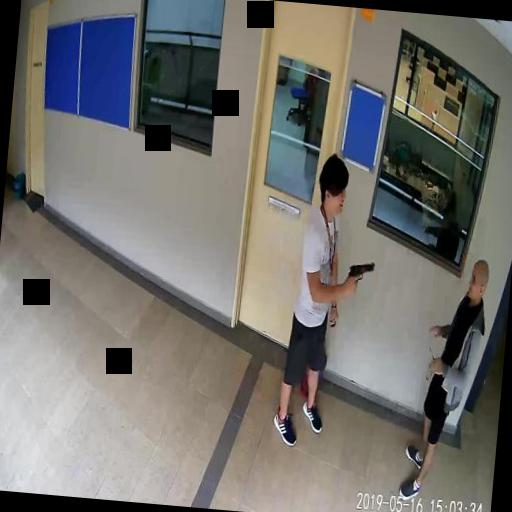Handgun: (345, 258, 373, 295)
